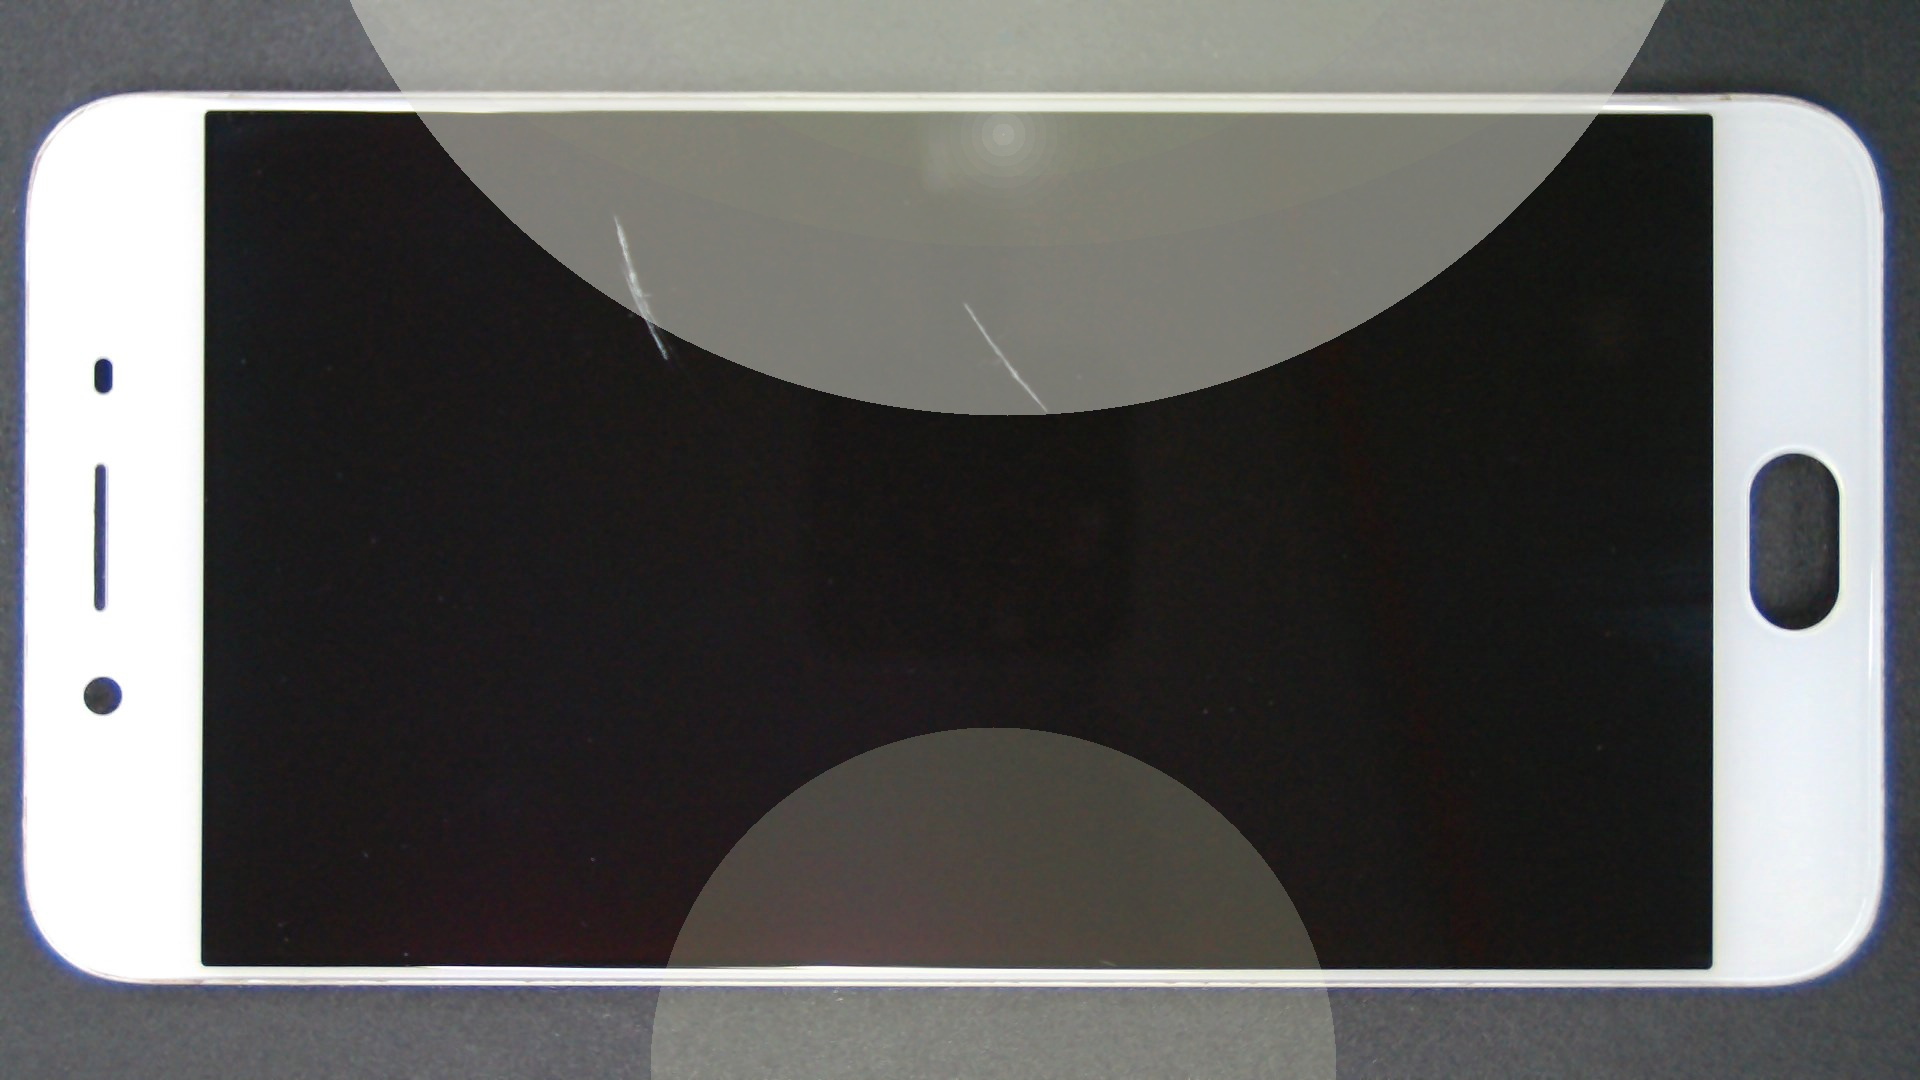oil: (483, 152, 1447, 455), (309, 107, 924, 322)
